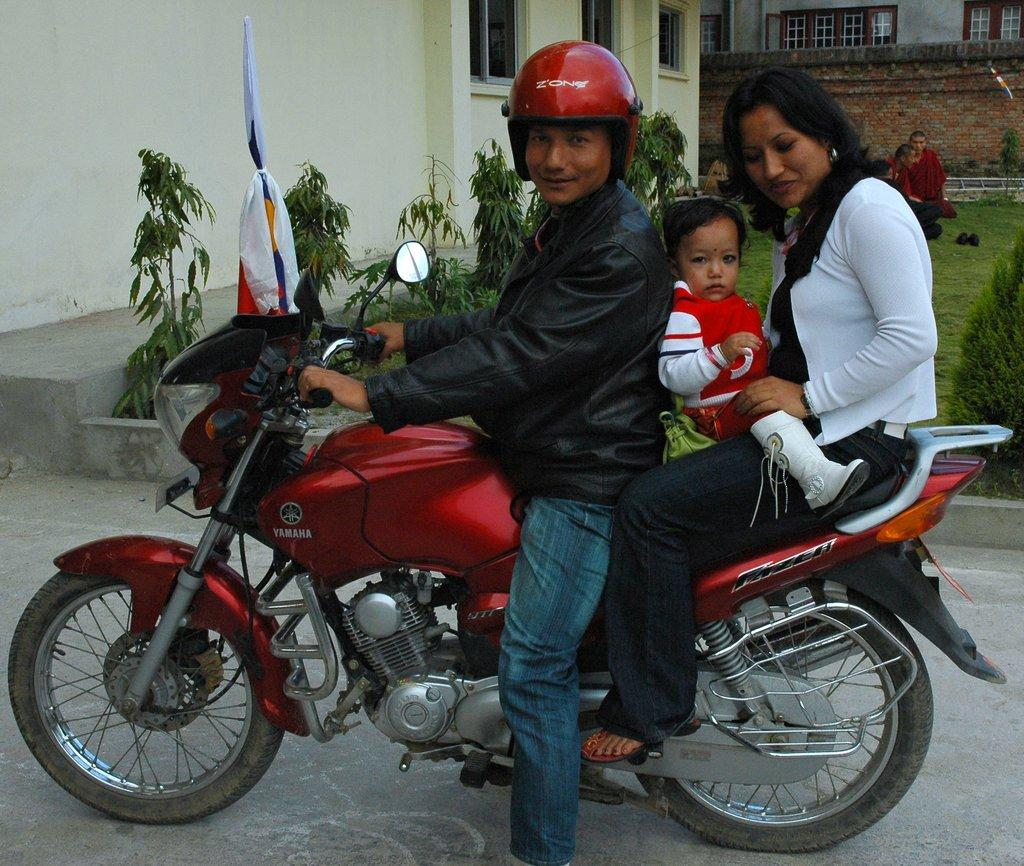helmet: (506, 40, 640, 203)
nohelmet: (720, 66, 849, 213), (662, 197, 747, 306), (894, 143, 916, 171), (909, 130, 927, 156)
